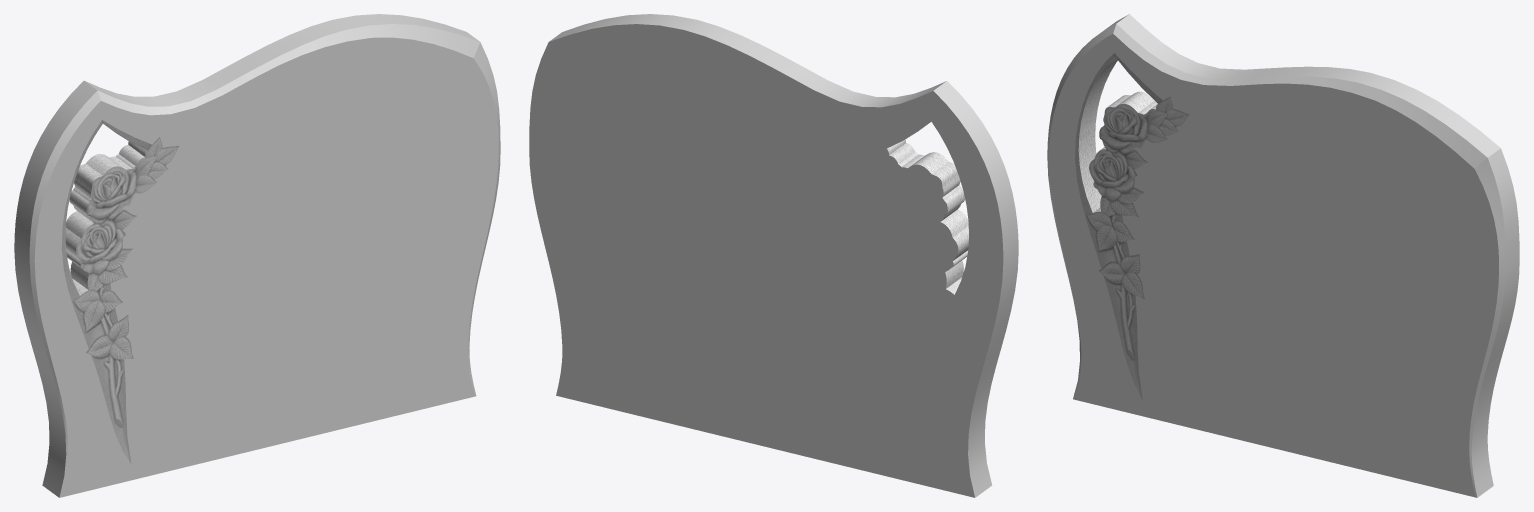
The model's file is cn09becdad53_tkf.glb.
The picture shows the model from 3 angles, left to right: view 1: azimuth 30°, elevation 25°; view 2: azimuth 150°, elevation 25°; view 3: azimuth 330°, elevation 25°; orthographic projection. The views are drawn at different scales.
Parts seen in each view (by area): view 1: Pam-d03-253, Pam-d03-253_2_notexture; view 2: Pam-d03-253, Pam-d03-253_2_notexture; view 3: Pam-d03-253, Pam-d03-253_2_notexture.
Part boxes in pixels (left/top/right/bottom): Pam-d03-253: left=14, top=14, right=500, bottom=497; Pam-d03-253_2_notexture: left=61, top=120, right=178, bottom=463; Pam-d03-253: left=529, top=14, right=1018, bottom=497; Pam-d03-253_2_notexture: left=887, top=139, right=968, bottom=294; Pam-d03-253: left=1047, top=14, right=1519, bottom=497; Pam-d03-253_2_notexture: left=1075, top=53, right=1188, bottom=399.
Bounding box in the file's own units: 0.8 × 0.64 × 0.05.
1 material, 1 textured.
